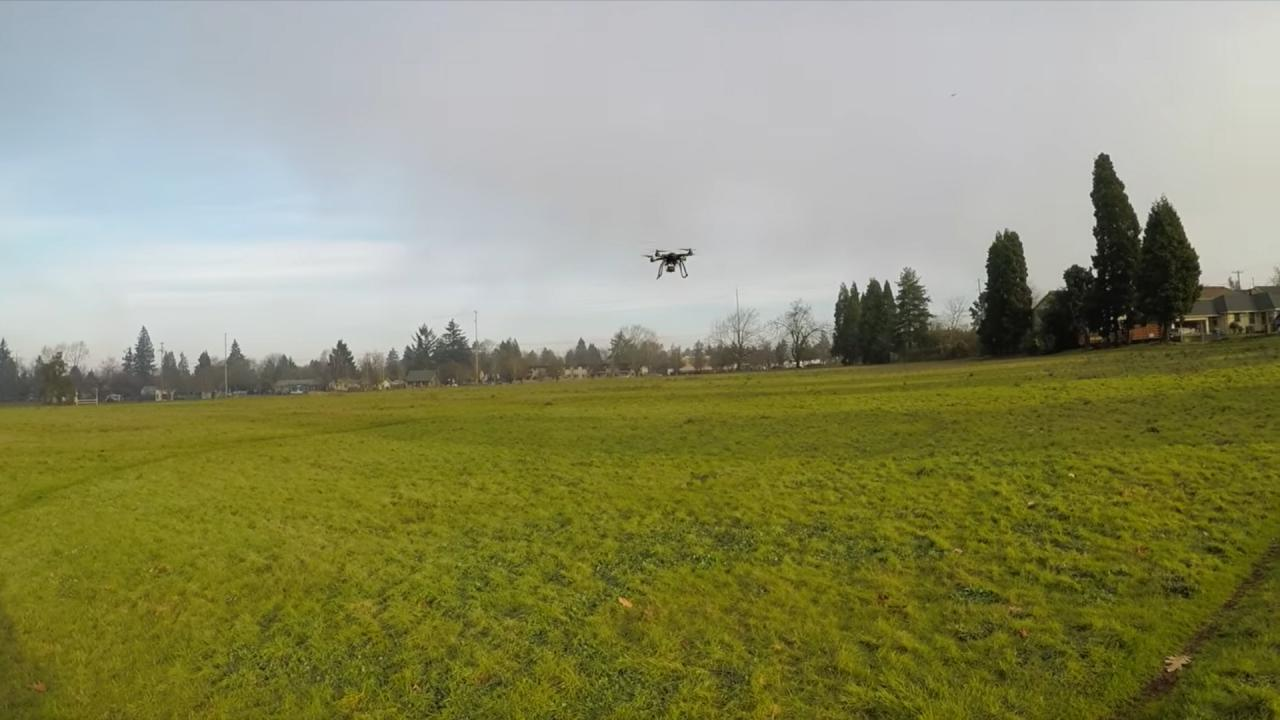Drone: (637, 239, 700, 287)
